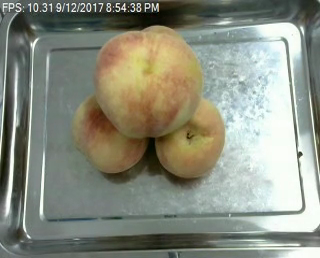Peach: (97, 25, 204, 145), (69, 91, 149, 172), (151, 103, 227, 176)
